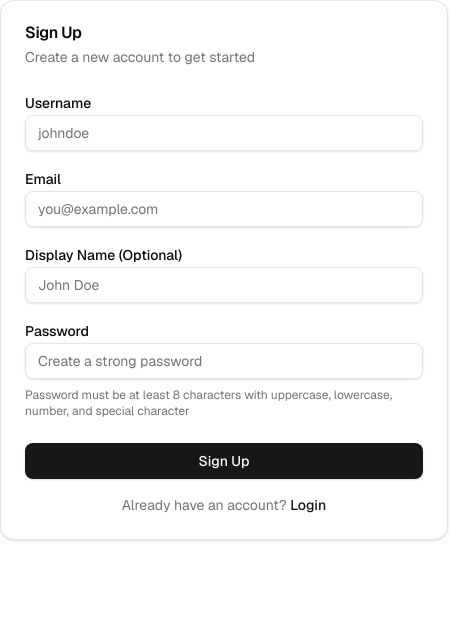
it: SignupForm › shows validation errors for empty required fields
The width and height of the screenshot is (465, 642).
Click the button "Sign Up": click(224, 461) [25,443,423,479]
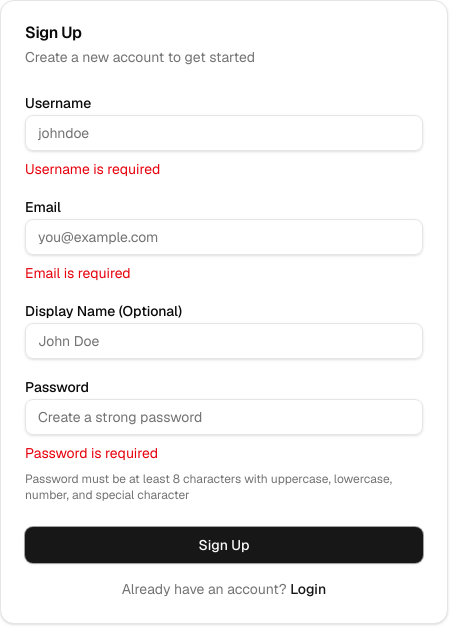
Expected: the text "Username is required" is shown, [25,160,160,178]
Expected: the text "Email is required" is shown, [25,264,131,282]
Expected: the text "Password is required" is shown, [25,444,158,462]
